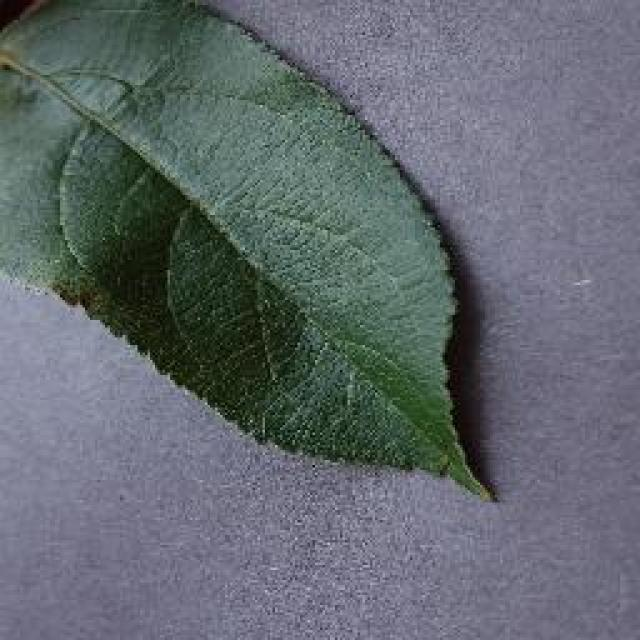apple scab disease: (0, 0, 497, 502)
